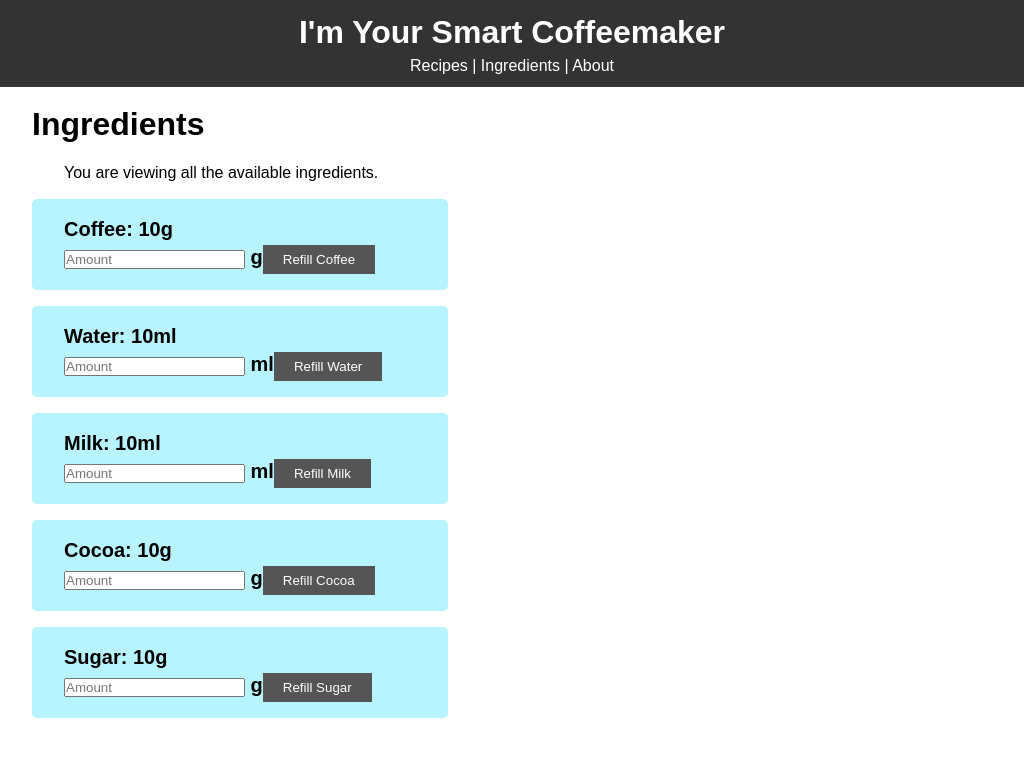
Test: Ingredients - UI Tests › Ingredient amounts are updated after changes
Type "1" into the number field with id "amount-Water". click: (155, 367)
box: [64,357,245,376]
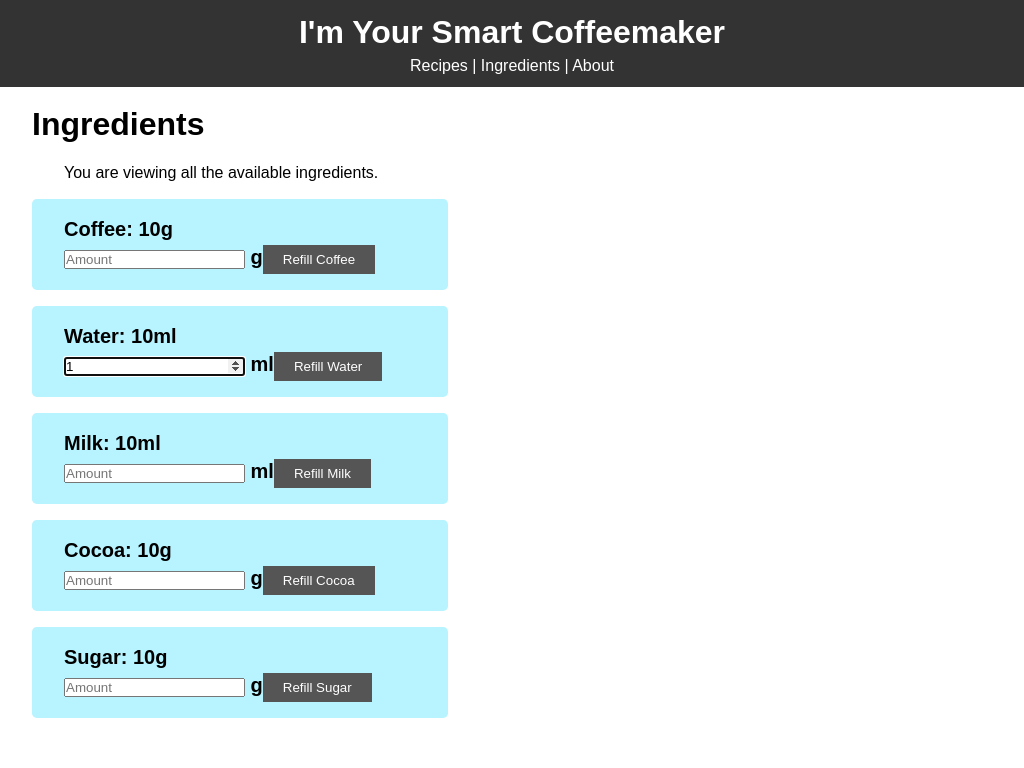
Click the button with id "button-Water". click: (328, 367)
box: [274,352,382,381]
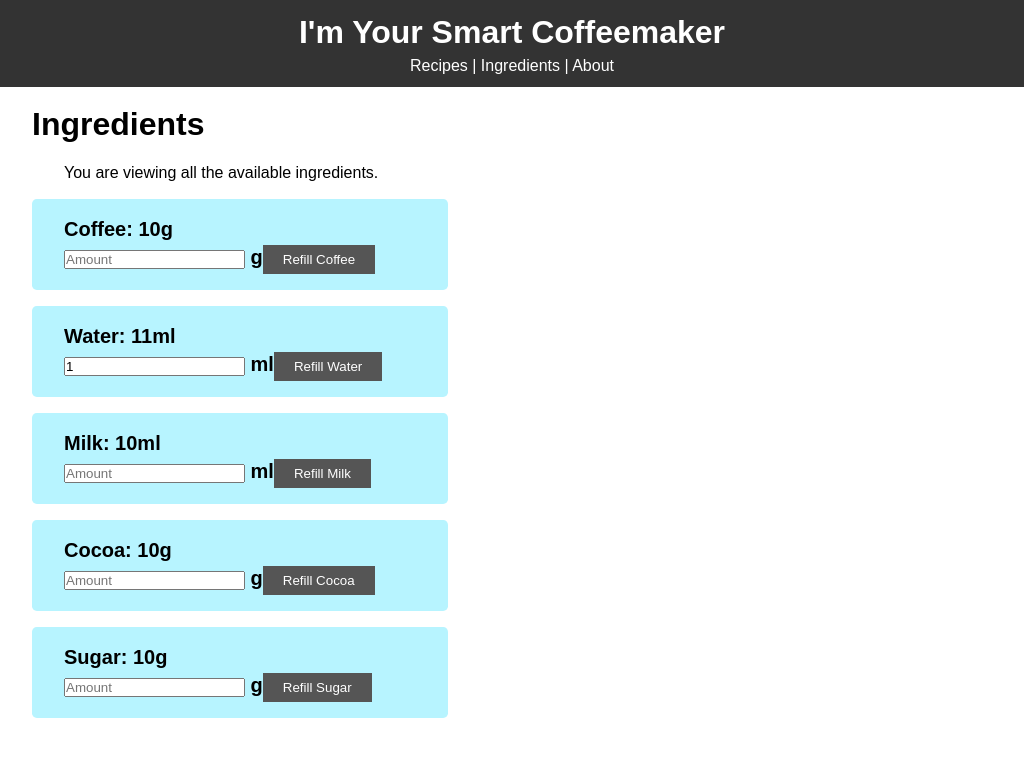
Check: the text "Water: 11ml" is shown, box [64,325,176,347]
